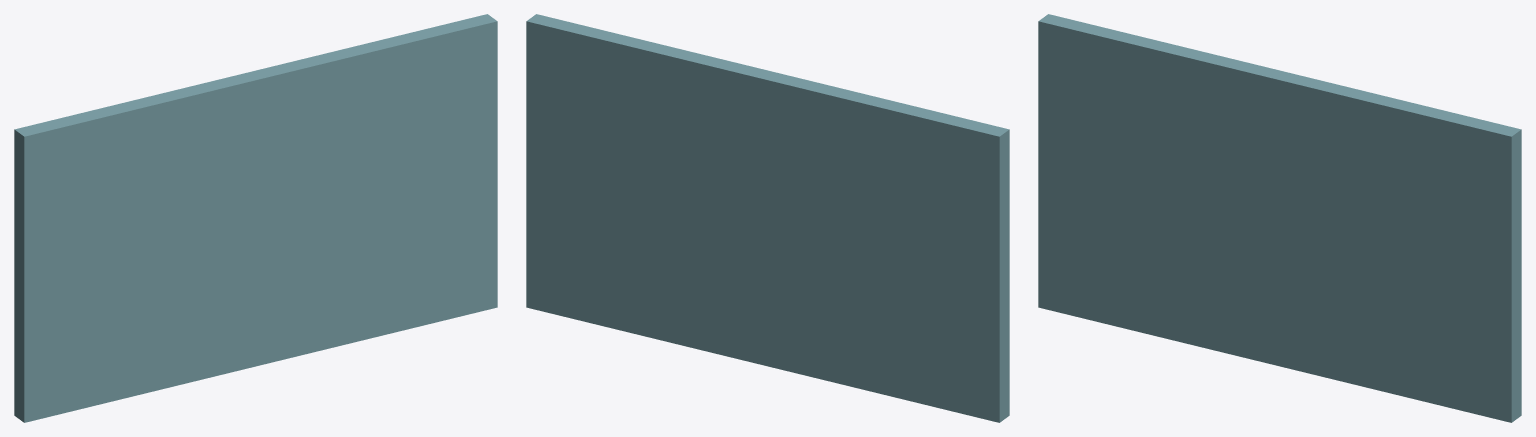
Rendered from D04_PORT_FORWARD_GARDEN_SERVICE_SASHES_r001.glb.
3 renders of one model, left to right at view 1: azimuth 30°, elevation 25°; view 2: azimuth 150°, elevation 25°; view 3: azimuth 330°, elevation 25°, orthographic.
Parts seen in each view (by area): view 1: D04HS_Sash_1, D04HS_Sash_2, D04HS_Sash_0, D04HS_FixedGlass_1, D04HS_FixedGlass_2, D04HS_FixedGlass_0, D04HS_FixedGlass_3; view 2: D04HS_Sash_1, D04HS_Sash_2, D04HS_Sash_0, D04HS_FixedGlass_1, D04HS_FixedGlass_2, D04HS_FixedGlass_0, D04HS_FixedGlass_3; view 3: D04HS_Sash_1, D04HS_Sash_2, D04HS_Sash_0, D04HS_FixedGlass_1, D04HS_FixedGlass_2, D04HS_FixedGlass_3, D04HS_FixedGlass_0.
Part boxes in pixels (x1=…): D04HS_Sash_1: x1=192, y1=59, x2=311, y2=379; D04HS_Sash_2: x1=345, y1=22, x2=465, y2=342; D04HS_Sash_0: x1=38, y1=97, x2=158, y2=416; D04HS_FixedGlass_1: x1=148, y1=86, x2=201, y2=390; D04HS_FixedGlass_2: x1=302, y1=49, x2=354, y2=352; D04HS_FixedGlass_0: x1=14, y1=123, x2=47, y2=422; D04HS_FixedGlass_3: x1=455, y1=14, x2=497, y2=315; D04HS_Sash_1: x1=712, y1=59, x2=831, y2=379; D04HS_Sash_2: x1=558, y1=22, x2=678, y2=342; D04HS_Sash_0: x1=865, y1=97, x2=985, y2=416; D04HS_FixedGlass_1: x1=822, y1=86, x2=875, y2=390; D04HS_FixedGlass_2: x1=669, y1=49, x2=721, y2=352; D04HS_FixedGlass_0: x1=976, y1=123, x2=1009, y2=422; D04HS_FixedGlass_3: x1=526, y1=14, x2=568, y2=315; D04HS_Sash_1: x1=1215, y1=57, x2=1335, y2=377; D04HS_Sash_2: x1=1369, y1=94, x2=1488, y2=414; D04HS_Sash_0: x1=1062, y1=20, x2=1181, y2=339; D04HS_FixedGlass_1: x1=1172, y1=46, x2=1224, y2=350; D04HS_FixedGlass_2: x1=1326, y1=84, x2=1378, y2=387; D04HS_FixedGlass_3: x1=1479, y1=121, x2=1521, y2=422; D04HS_FixedGlass_0: x1=1038, y1=14, x2=1071, y2=313.
Bounding box in the file's own units: 4.93 × 2.85 × 0.18.
